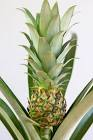Pineapple: (20, 1, 73, 127)
